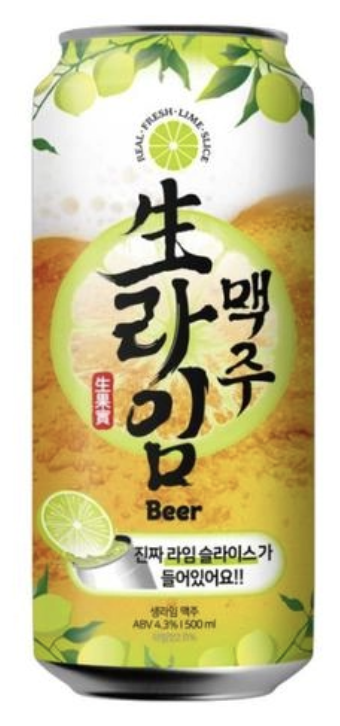beer-can: (30, 24, 315, 702)
